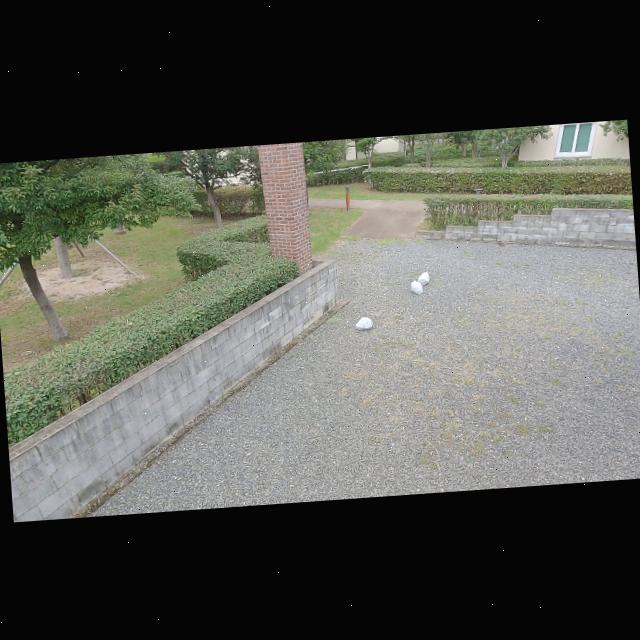trash: (414, 267, 432, 288), (356, 314, 376, 332), (409, 278, 427, 296)
